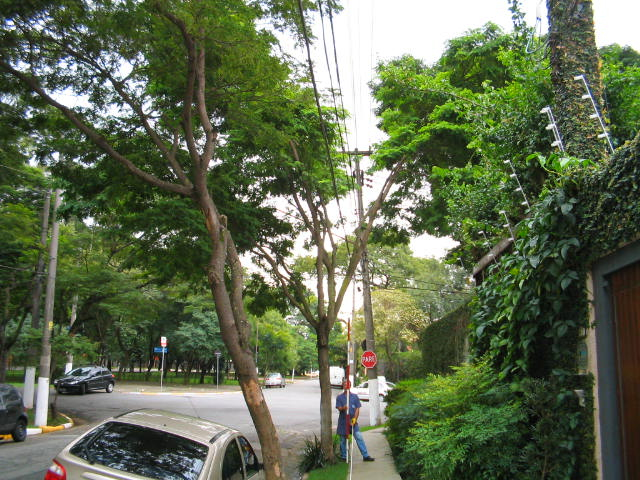stem: (302, 328, 341, 464)
stick: (341, 317, 353, 463)
tree: (232, 114, 443, 465)
